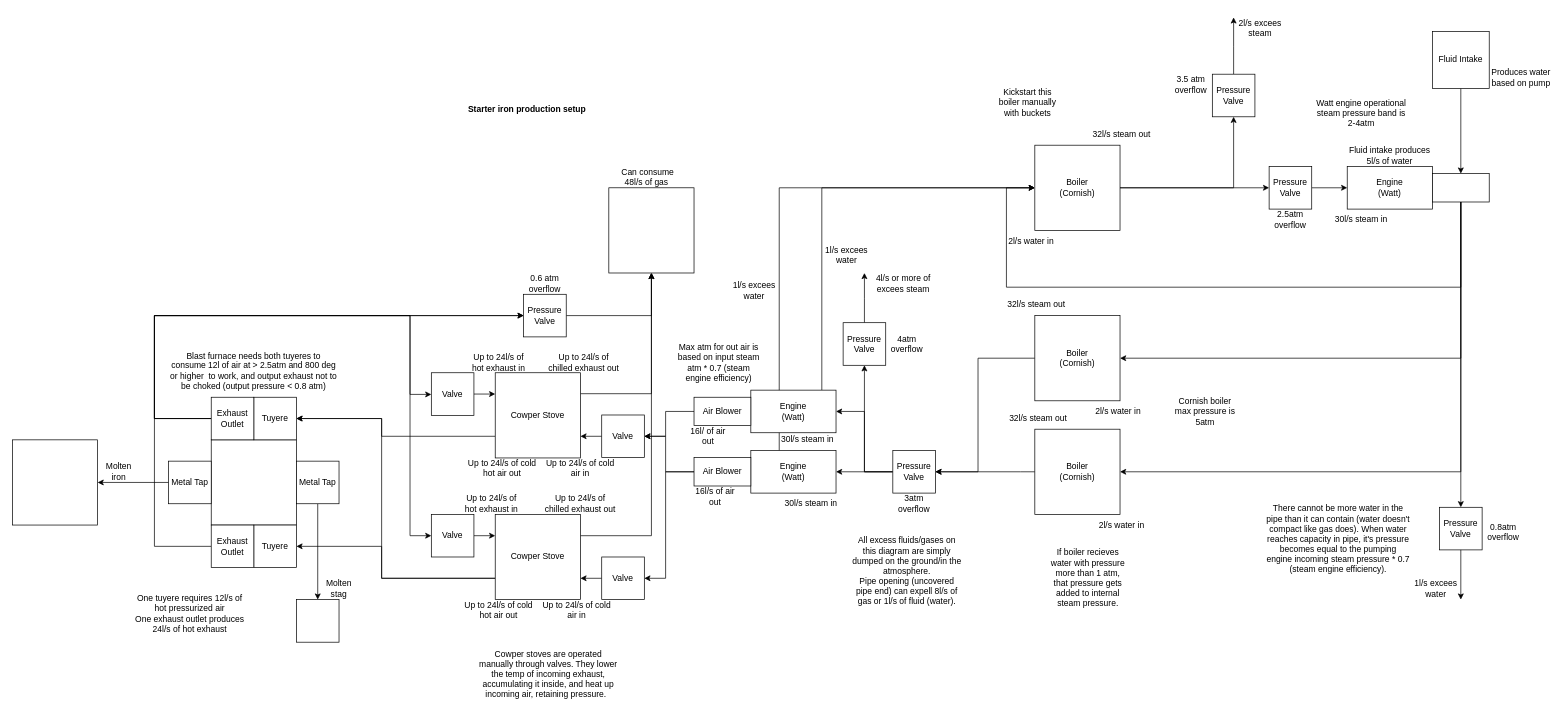
This 1566x712 diagram has some shape labels left out. The centre of each missing label's shape, as x and y in pixels:
"Barrel" goes at [317,620].
"Blast Furnace" goes at [253,482].
"Fluid Pump" goes at [1460,187].
"Molds" goes at [55,482].
"Smoke Stack" goes at [651,230].
